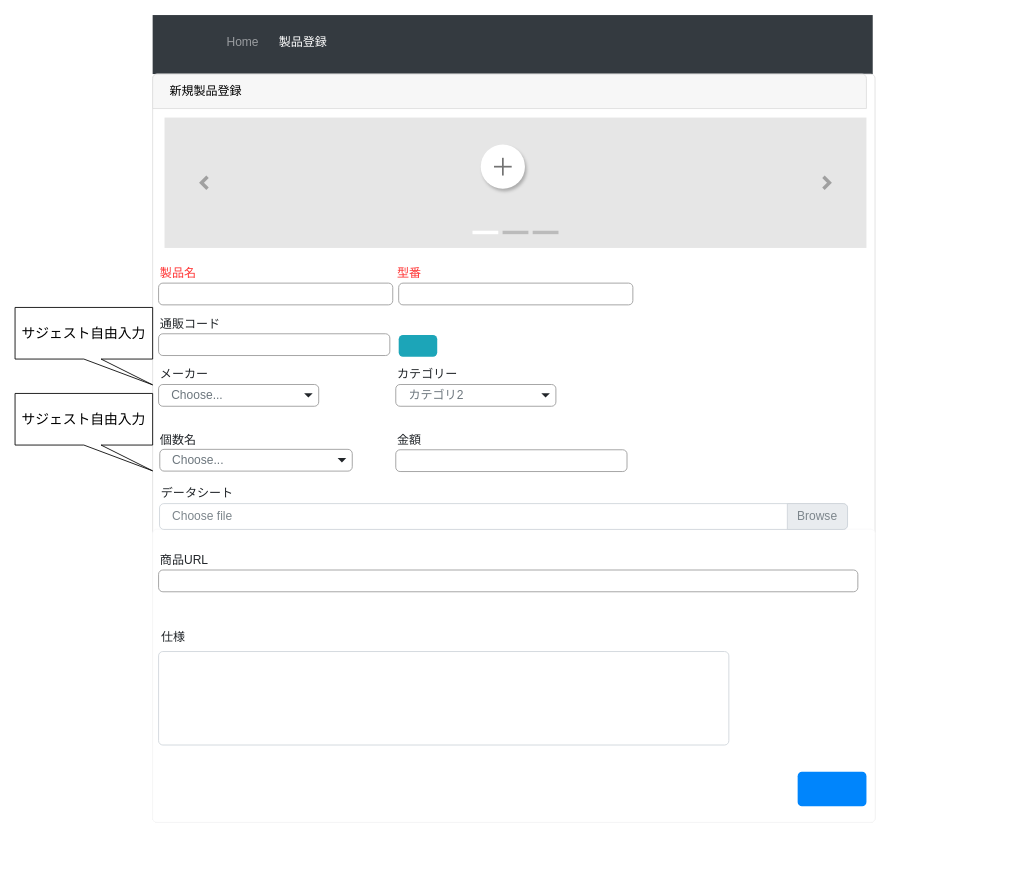
The diagram is 1036 pixels wide and 892 high, and some of its shapes have lost their labels. Each missing label, with the centre of its shape:
"EPIMS" belongs at point (512, 44).
"検索" belongs at point (417, 345).
"登録" belongs at point (831, 788).
